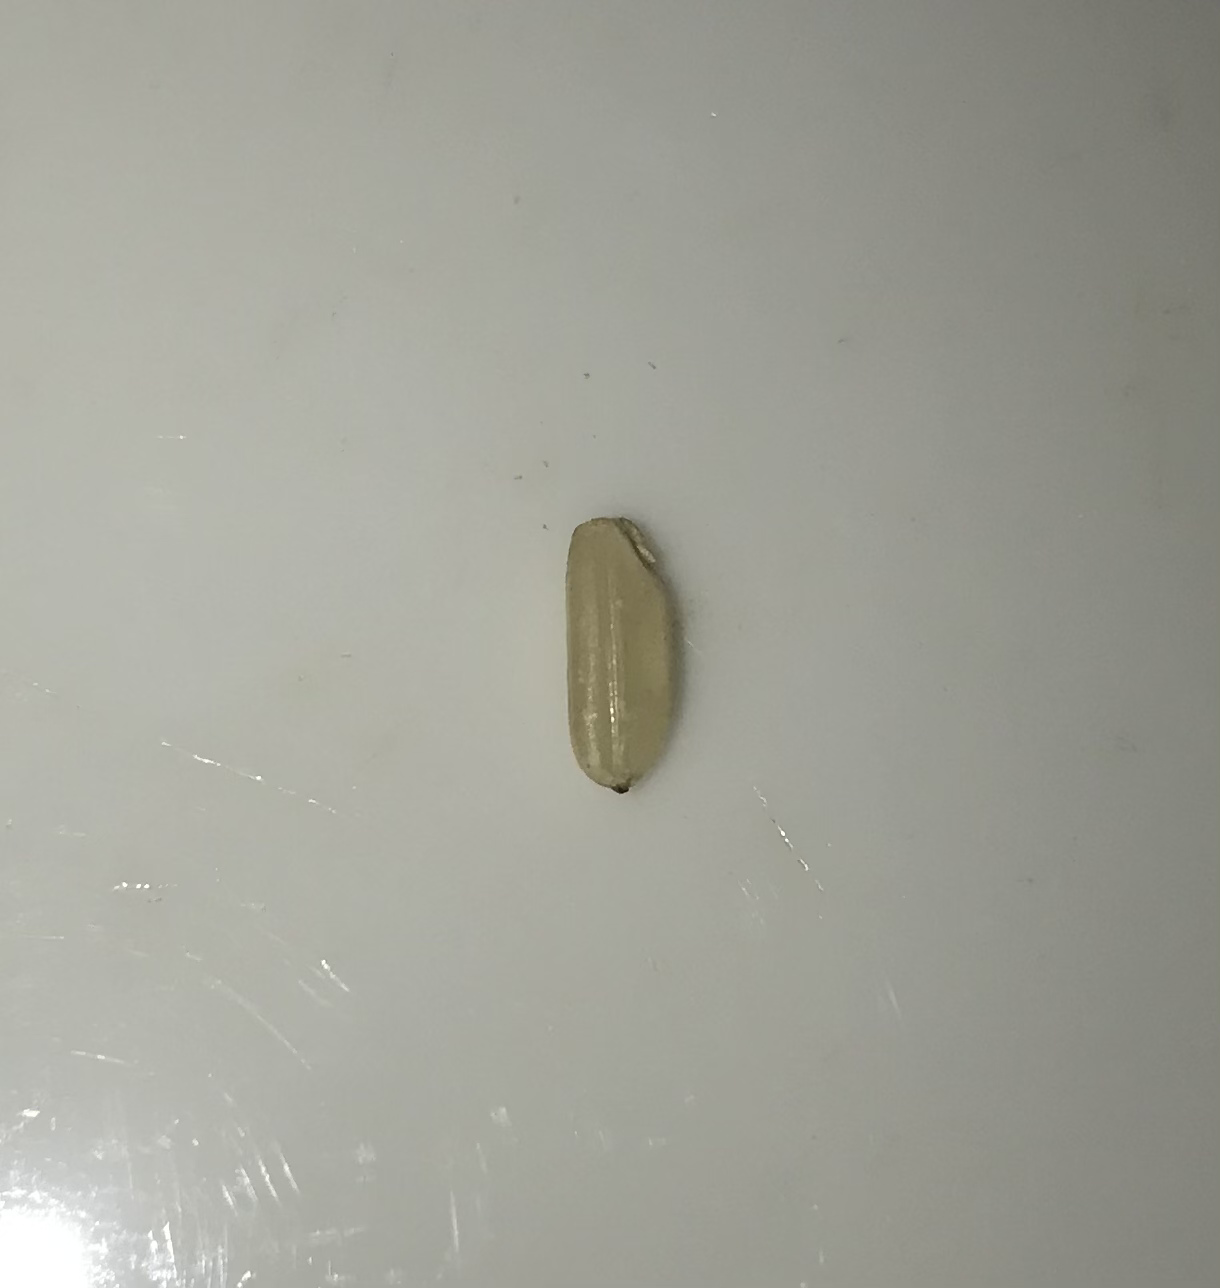Gao Lut Trang: (552, 500, 686, 828)
